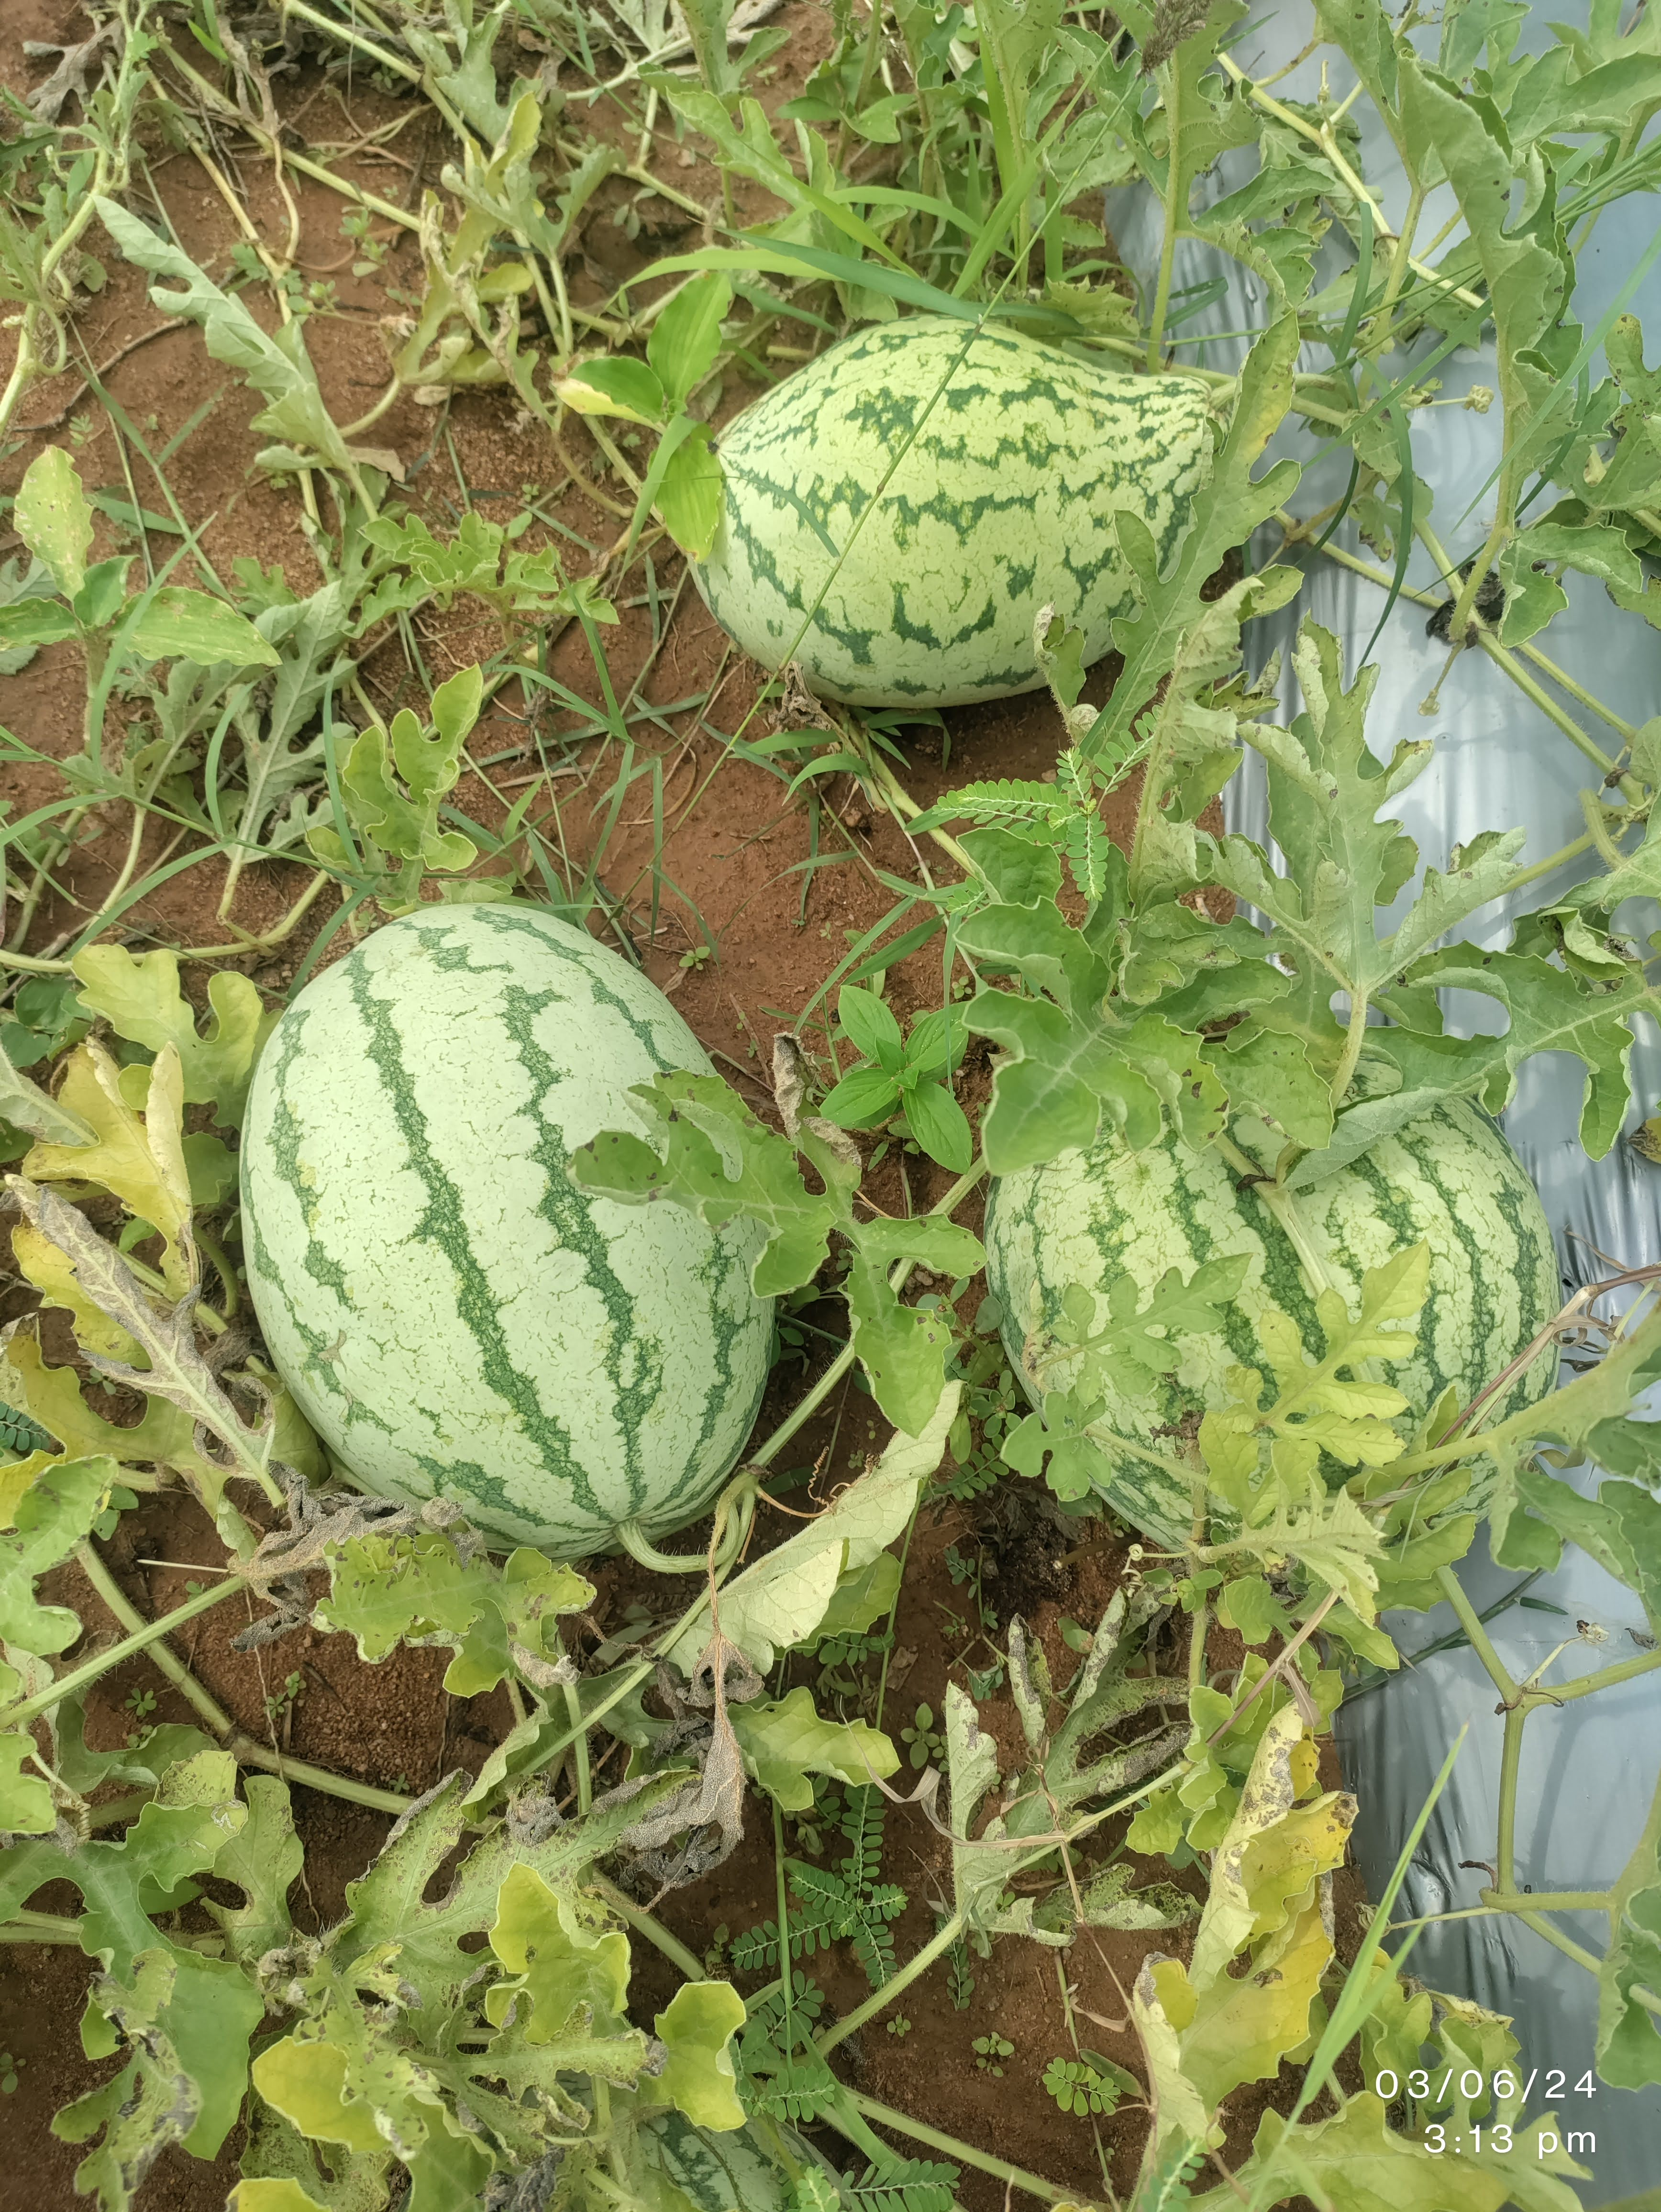good-to-harvest: (174, 869, 858, 1568), (977, 829, 1610, 1565)
not-good-to-harvest: (661, 195, 1295, 748)
